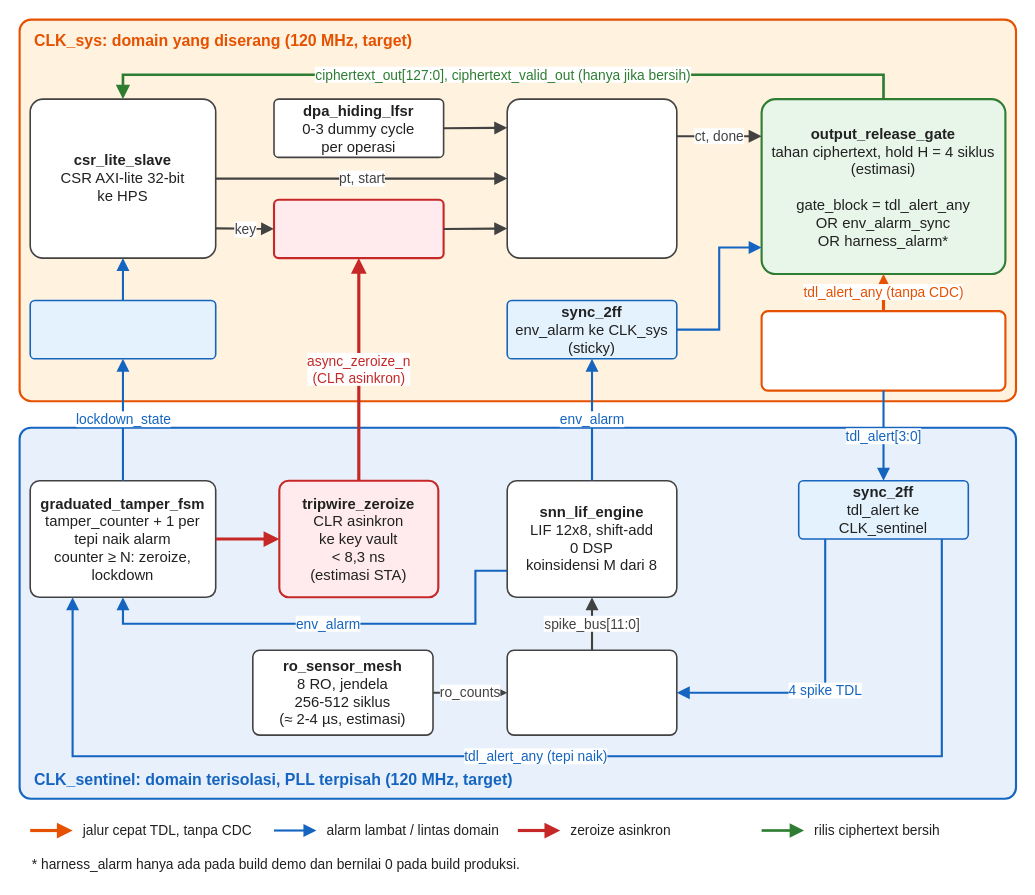
The diagram is 1035 pixels wide and 895 high, and some of its shapes have lost their labels. Here are the shapes that lost their labels. From the top down, the centre of each, then its label:
At pixel 591 178: "aes128_core AES-128 iteratif, 1 ronde per siklus 11-15 siklus (estimasi)".
At pixel 358 228: "master_key_vault 128 D-FF, hanya tulis".
At pixel 122 329: "sync_2ff lockdown ke CLK_sys".
At pixel 883 350: "tdl_glitch_line canary carry chain pada CLK_sys latensi 1-2 siklus (target)".
At pixel 591 692: "p2se_encoder perubahan hitungan per jendela menjadi spike".
